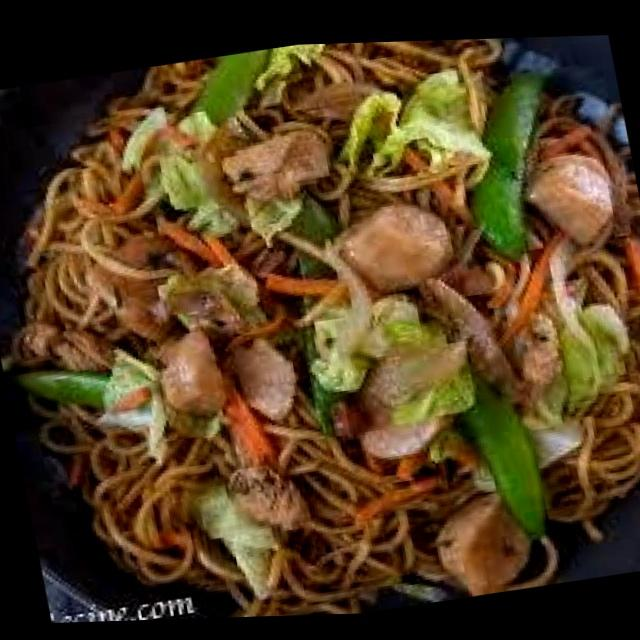pancit bihon: (18, 19, 639, 624)
